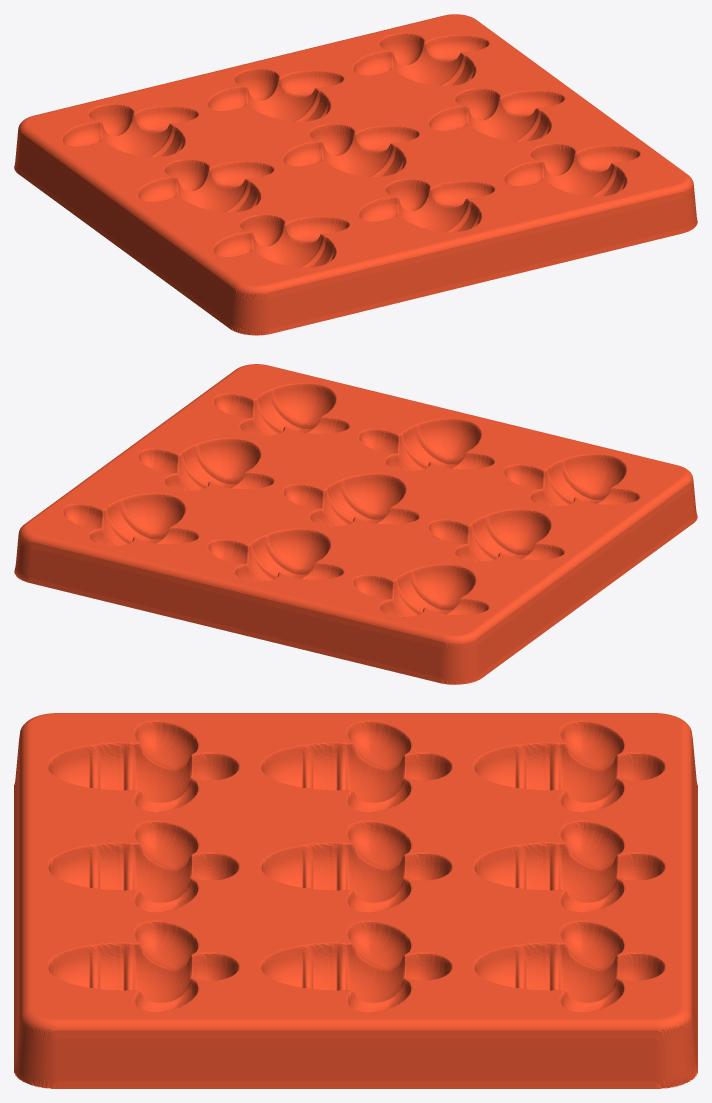
File: mold.glb
The picture shows the model from 3 angles, top to bottom: view 1: azimuth 30°, elevation 25°; view 2: azimuth 150°, elevation 25°; view 3: azimuth 270°, elevation 25°; orthographic projection. The views are drawn at different scales.
Visible parts, largest first — view 1: geometry_0; view 2: geometry_0; view 3: geometry_0.
Boxes of the visible parts, left/top/right/bottom form: geometry_0: left=14, top=14, right=697, bottom=335; geometry_0: left=14, top=364, right=697, bottom=684; geometry_0: left=14, top=713, right=697, bottom=1088.
Bounding box in the file's own units: 0.1579 × 0.0145 × 0.143.
